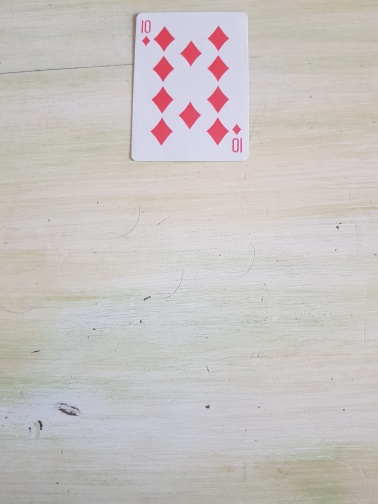ten: (129, 10, 250, 162)
